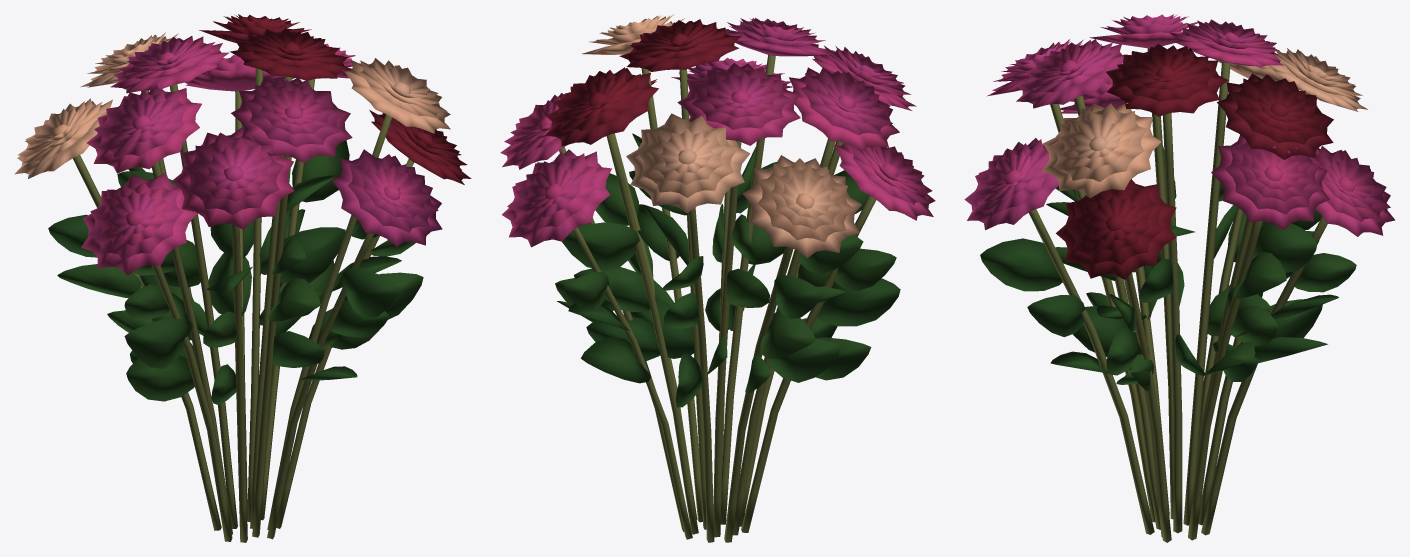
File: bucket_dahlias.glb
3 renders of one model, left to right at view 1: azimuth 30°, elevation 25°; view 2: azimuth 150°, elevation 25°; view 3: azimuth 270°, elevation 25°, orthographic.
Parts seen in each view (by area): view 1: Sammel Pflanze, Sammel Putz; view 2: Sammel Pflanze, Sammel Putz; view 3: Sammel Pflanze, Sammel Putz.
Part boxes in pixels (left/top/right/bottom): Sammel Pflanze: left=14, top=14, right=471, bottom=404; Sammel Putz: left=73, top=68, right=414, bottom=542; Sammel Pflanze: left=500, top=14, right=935, bottom=407; Sammel Putz: left=559, top=55, right=876, bottom=542; Sammel Pflanze: left=964, top=14, right=1394, bottom=391; Sammel Putz: left=1029, top=48, right=1327, bottom=542.
Size of the model in its own units: 0.4103 by 0.514 by 0.4119.
